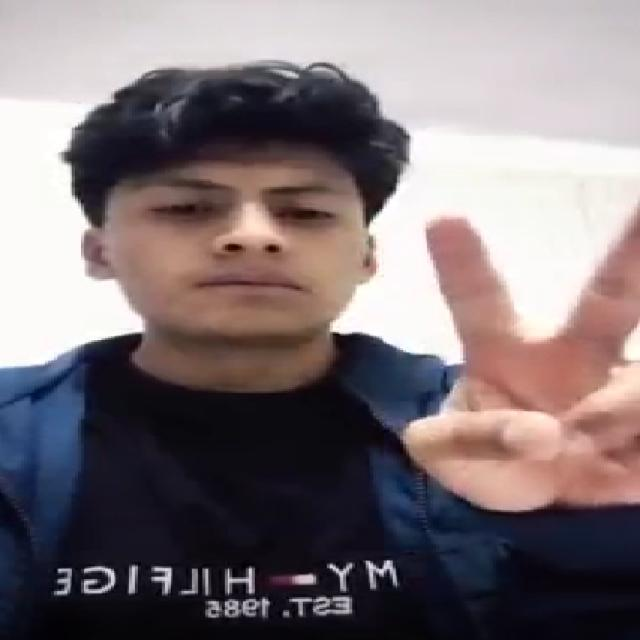V: (404, 183, 640, 527)
